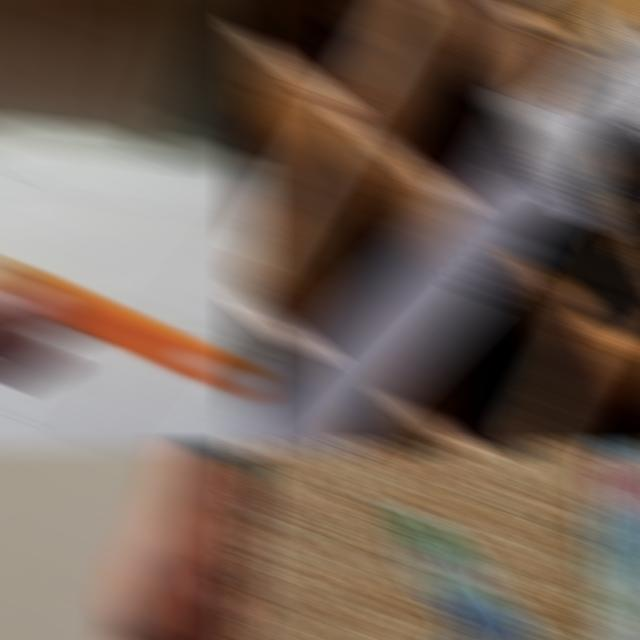Knife: (0, 253, 260, 397)
Knife_Handle: (21, 512, 253, 640)
